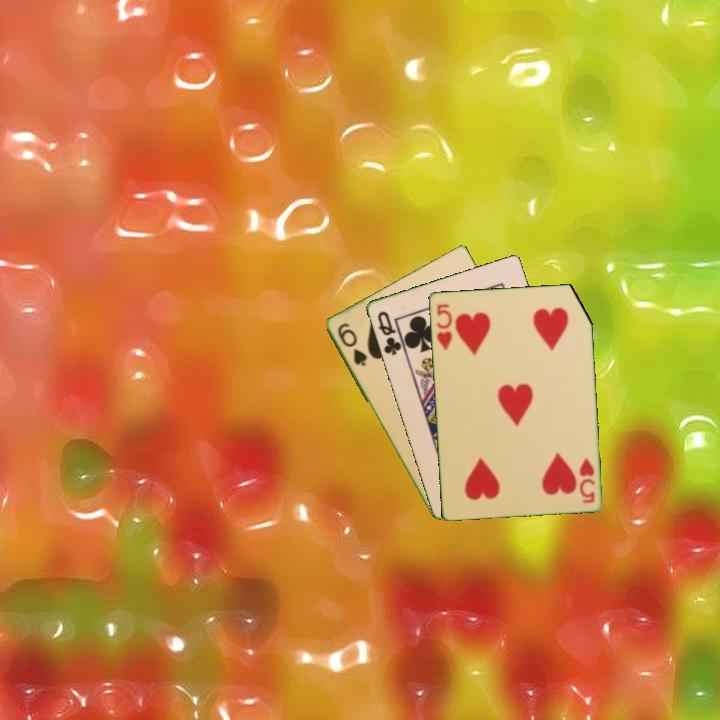5h: (433, 300, 455, 353), (576, 454, 597, 506)
6s: (333, 319, 370, 369)
Qc: (373, 307, 407, 358)
